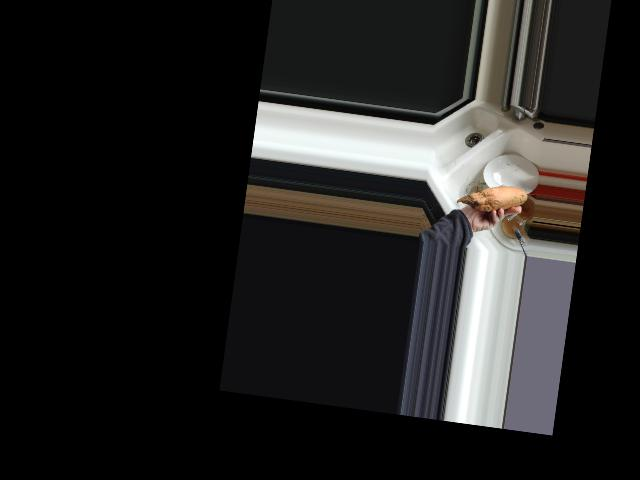sweet_potato: (455, 177, 528, 216)
